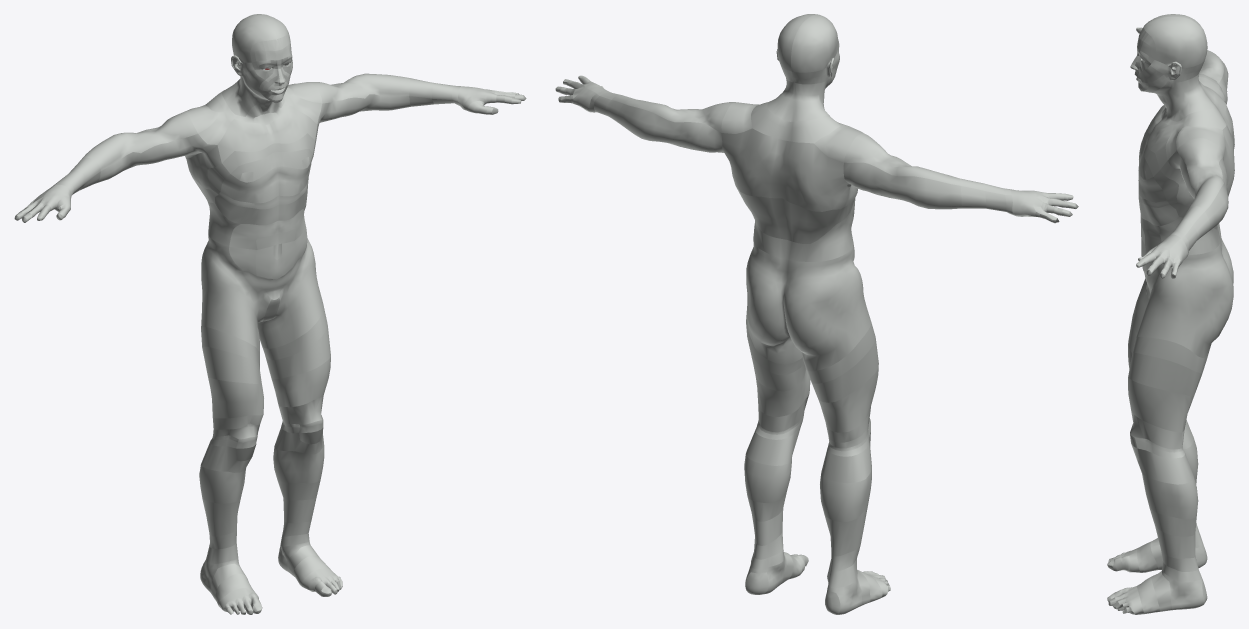
Rendered from xhxt.fbx.
The picture shows the model from 3 angles, left to right: view 1: azimuth 30°, elevation 25°; view 2: azimuth 150°, elevation 25°; view 3: azimuth 270°, elevation 25°; orthographic projection. The views are drawn at different scales.
Visible parts, largest first — view 1: body1; view 2: body1; view 3: body1.
Part boxes in pixels (x1,y1,x2,y2): body1: (14,14,526,614); body1: (555,14,1078,614); body1: (1107,14,1234,614).
Size of the model in its own units: 14.19 by 15.17 by 3.08.
